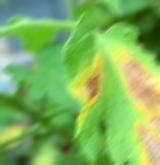Tomato Early blight leaf: (72, 10, 160, 165)
